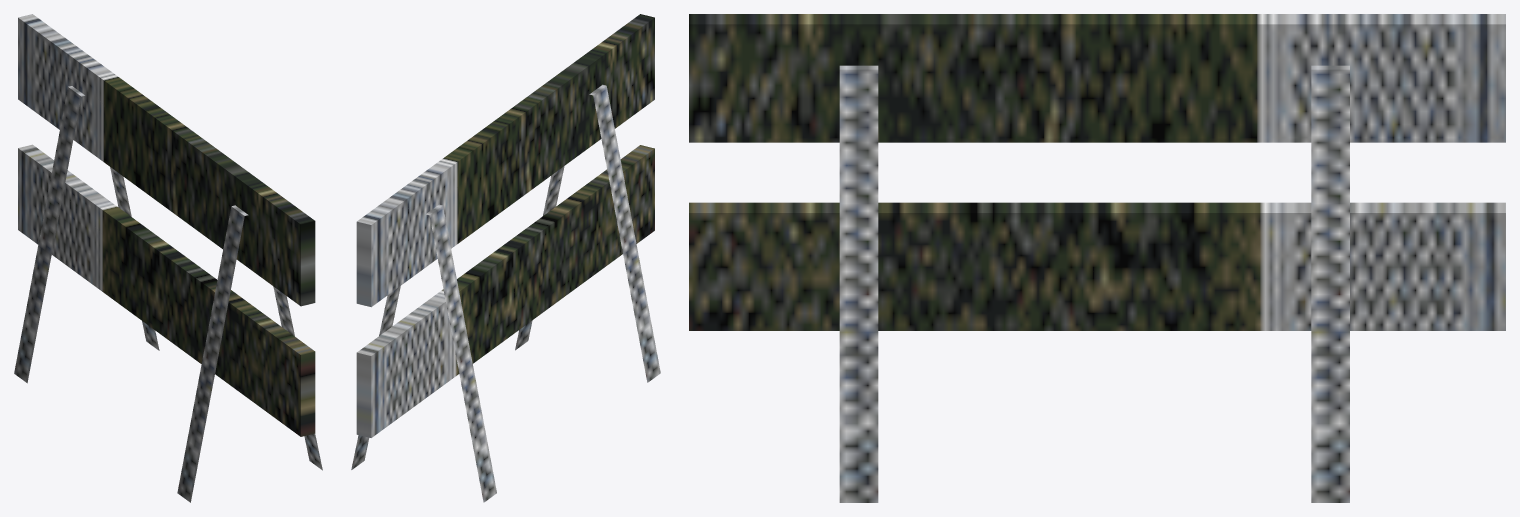
Rendered from dontenter 1.fbx.
3 views of the same model, side by side, from view 1: azimuth 30°, elevation 25°; view 2: azimuth 150°, elevation 25°; view 3: azimuth 270°, elevation 25° (orthographic). The views are drawn at different scales.
Visible parts, largest first — view 1: Cube.664; view 2: Cube.664; view 3: Cube.664.
Boxes of the visible parts, x1,y1,x2,y2 form: Cube.664: (14, 14, 322, 502); Cube.664: (351, 14, 660, 502); Cube.664: (689, 14, 1505, 502).
Size of the model in its own units: 47.37 by 104 by 176.
